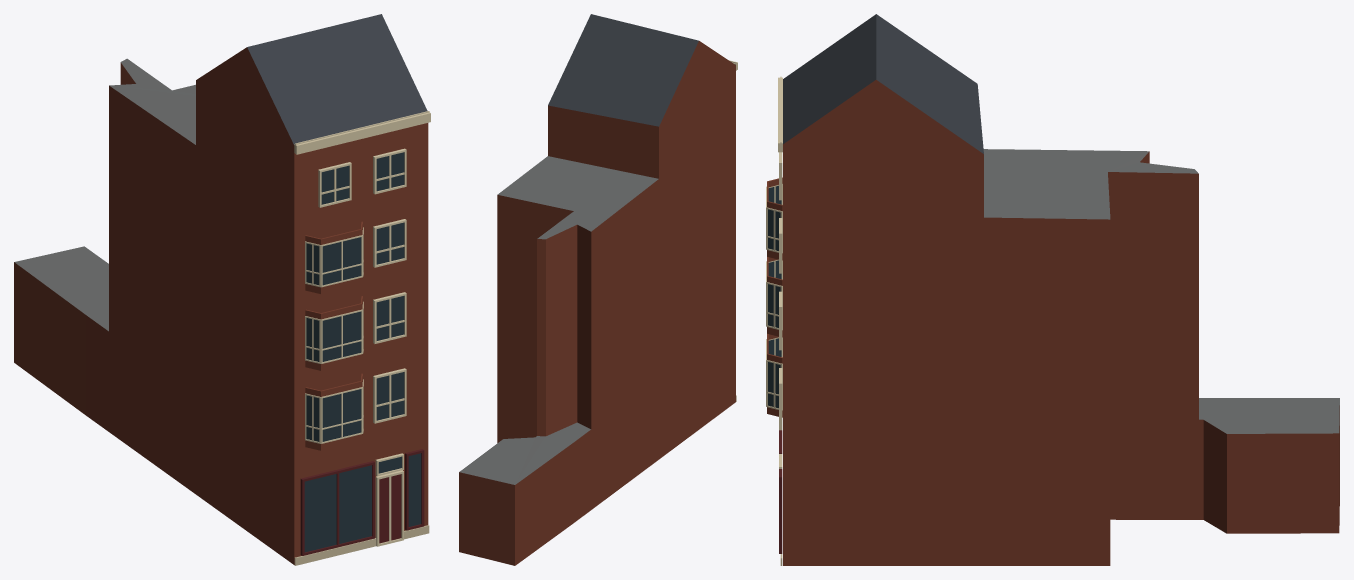
Rendered from recipe-bilder-080336.glb.
3 renders of one model, left to right at view 1: azimuth 30°, elevation 25°; view 2: azimuth 150°, elevation 25°; view 3: azimuth 270°, elevation 25°, orthographic. The views are drawn at different scales.
Visible parts, largest first — view 1: bilder-080336; view 2: bilder-080336; view 3: bilder-080336.
Boxes of the visible parts, x1,y1,x2,y2 form: bilder-080336: (14,14,430,565); bilder-080336: (459,14,737,565); bilder-080336: (766,14,1339,565).
Bounding box in the file's own units: 5.62 × 18.98 × 20.3.
